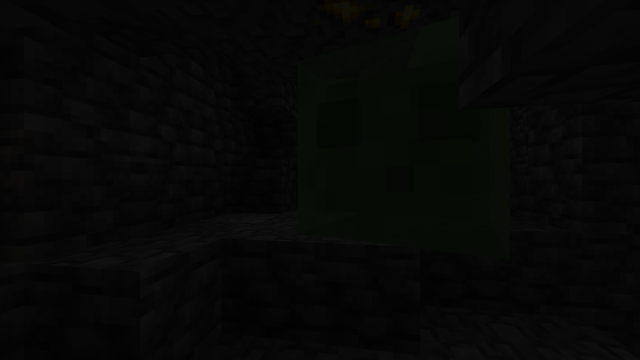slimes: (309, 48, 551, 253)
